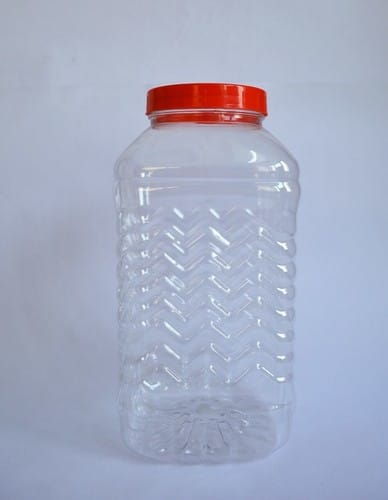Rec_Plastic: (98, 72, 309, 458)
